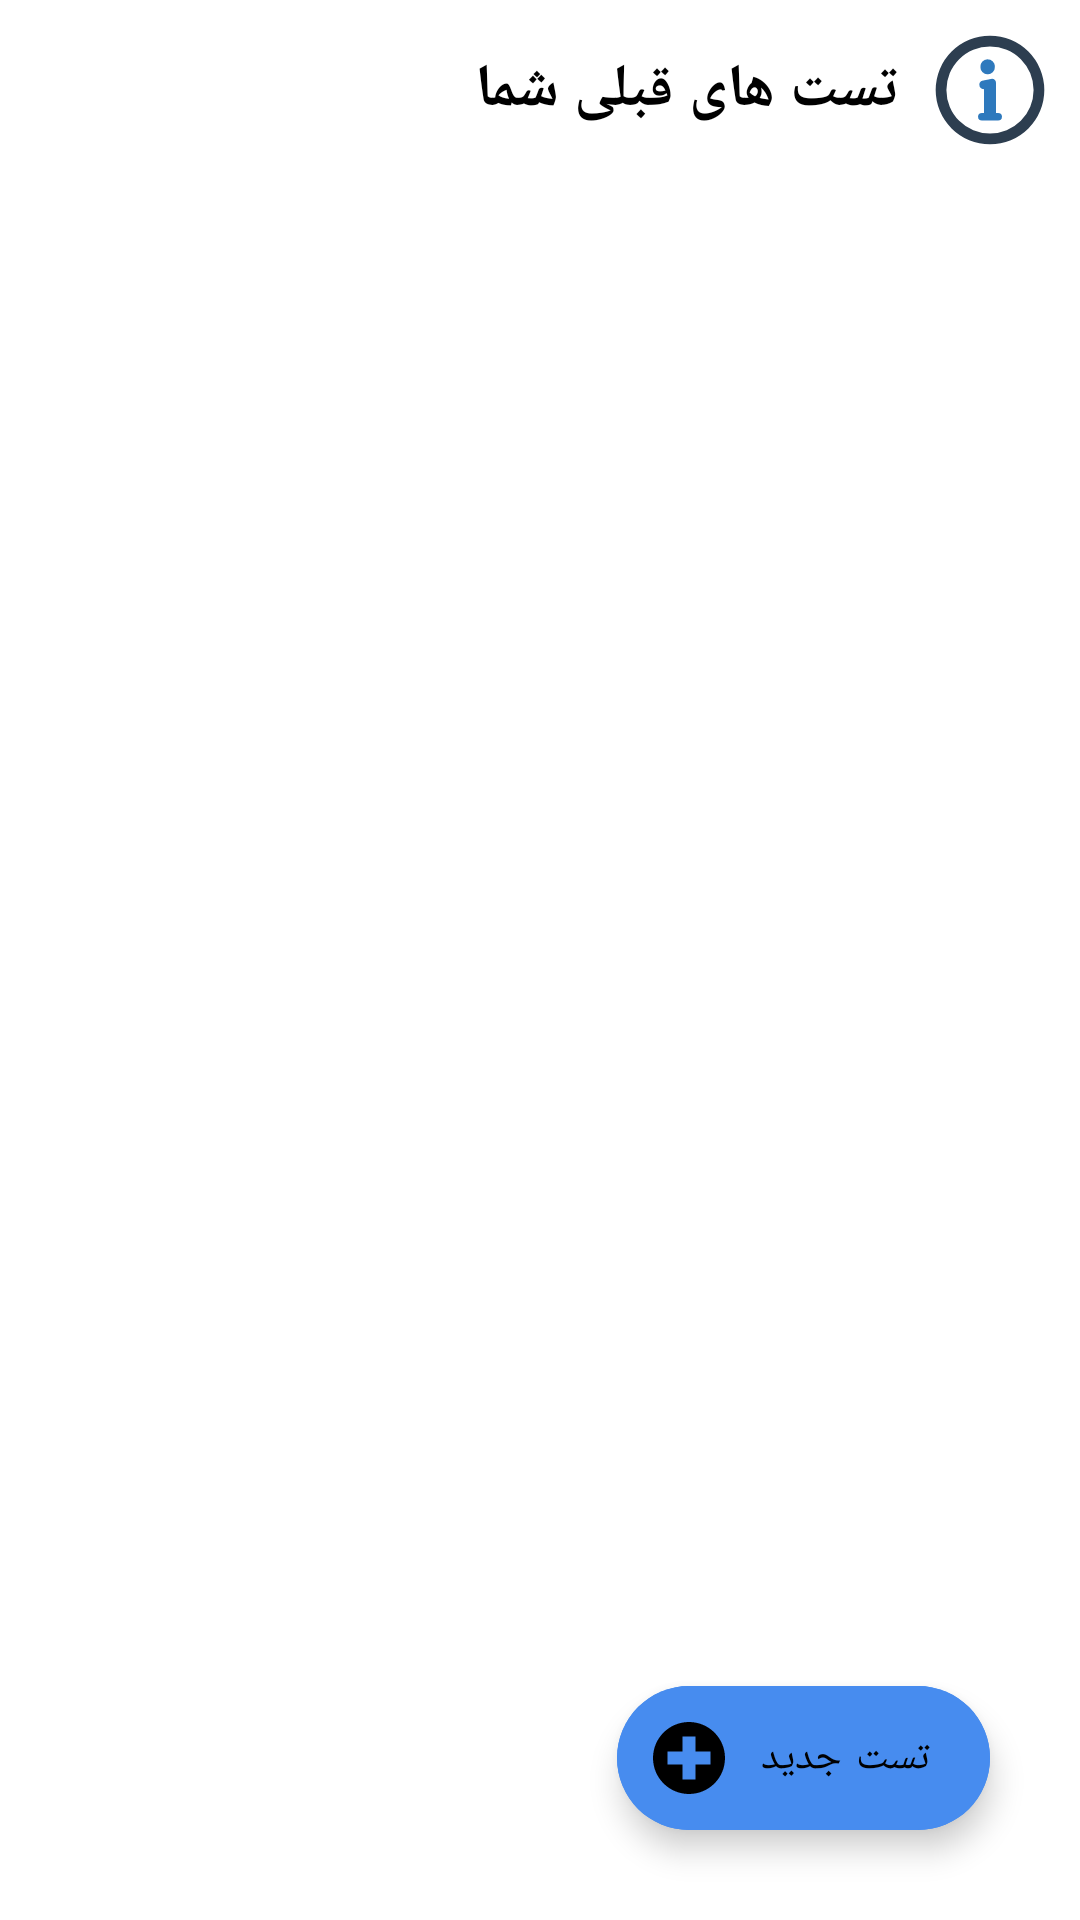

Where to tap for icons on this 1080px×1920px app screen, as (x=x, y=y):
help: (x=990, y=90)
